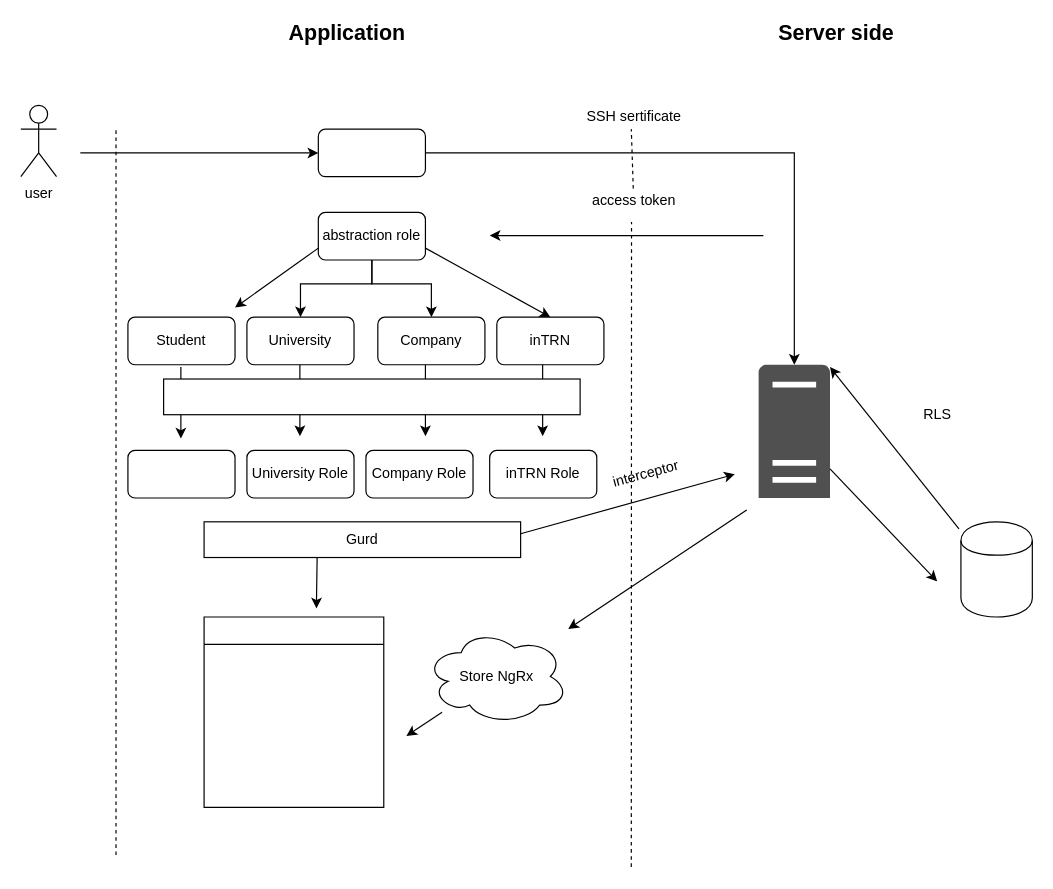
This 1053x889 diagram has some shape labels left out. The shapes that lost their labels are listed below. From the top down, each one's centre as x and y in pixels, then its label:
the point at 371,152: login
the point at 371,396: permissions
the point at 181,473: Student Role
the point at 996,569: DB
the point at 293,711: web page
